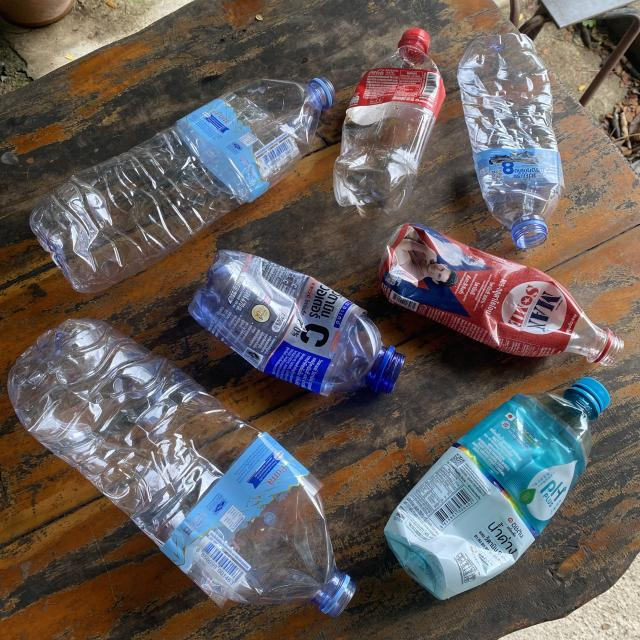plastik: (8, 319, 355, 616), (30, 78, 334, 292), (385, 378, 610, 599), (380, 224, 624, 365), (189, 250, 405, 395), (458, 32, 564, 249), (334, 28, 445, 218)
